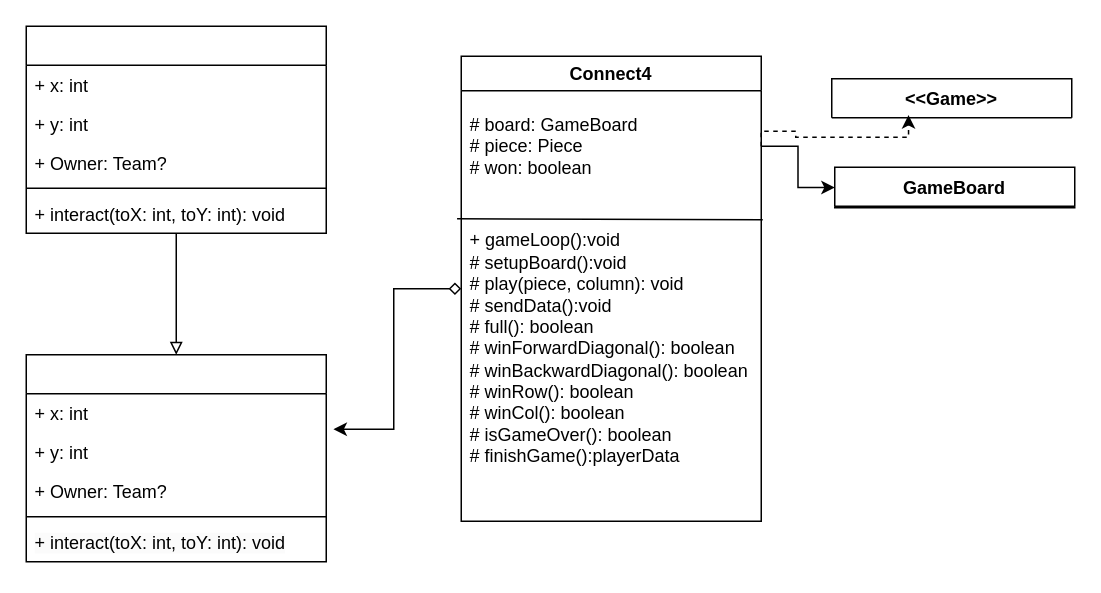
Some shapes in this 1101 by 593 pixel diagram are drawn without their labels. Each missing label, with the box of its shape:
Connect4Piece: (25, 353, 326, 562)
Piece: (25, 25, 326, 233)
